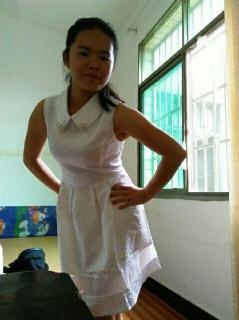vest: (44, 86, 162, 318)
